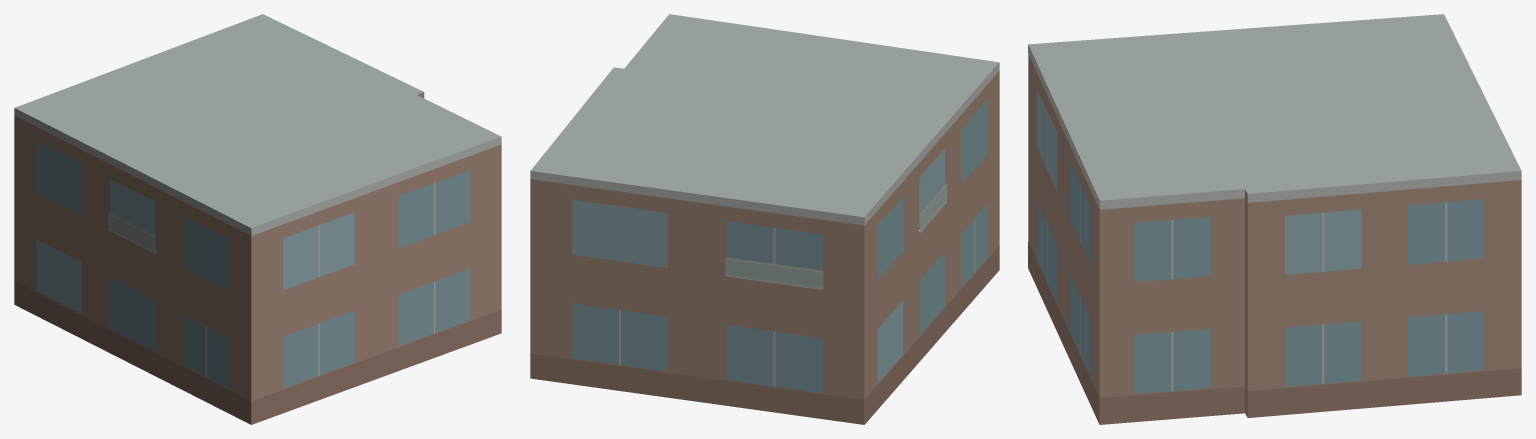
Rendered from survey-upis-32619850.glb.
3 views of the same model, side by side, from view 1: azimuth 30°, elevation 25°; view 2: azimuth 150°, elevation 25°; view 3: azimuth 270°, elevation 25° (orthographic). The views are drawn at different scales.
Visible parts, largest first — view 1: survey-upis-32619850.tmp; view 2: survey-upis-32619850.tmp; view 3: survey-upis-32619850.tmp.
Part boxes in pixels (bbox=[...]): survey-upis-32619850.tmp: bbox=[14, 14, 501, 424]; survey-upis-32619850.tmp: bbox=[530, 14, 999, 424]; survey-upis-32619850.tmp: bbox=[1028, 14, 1521, 424].
Bounding box in the file's own units: 10.92 × 6.1 × 12.19.
